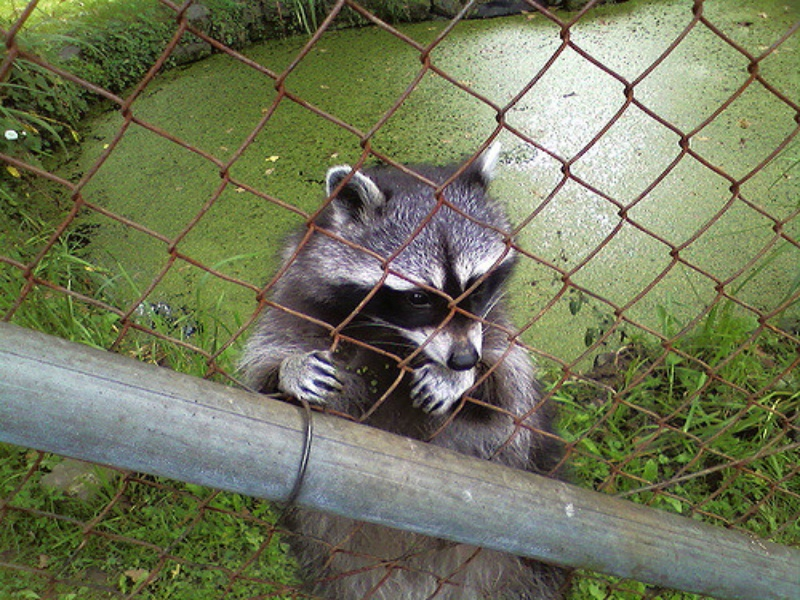raccoon: (235, 139, 580, 597)
